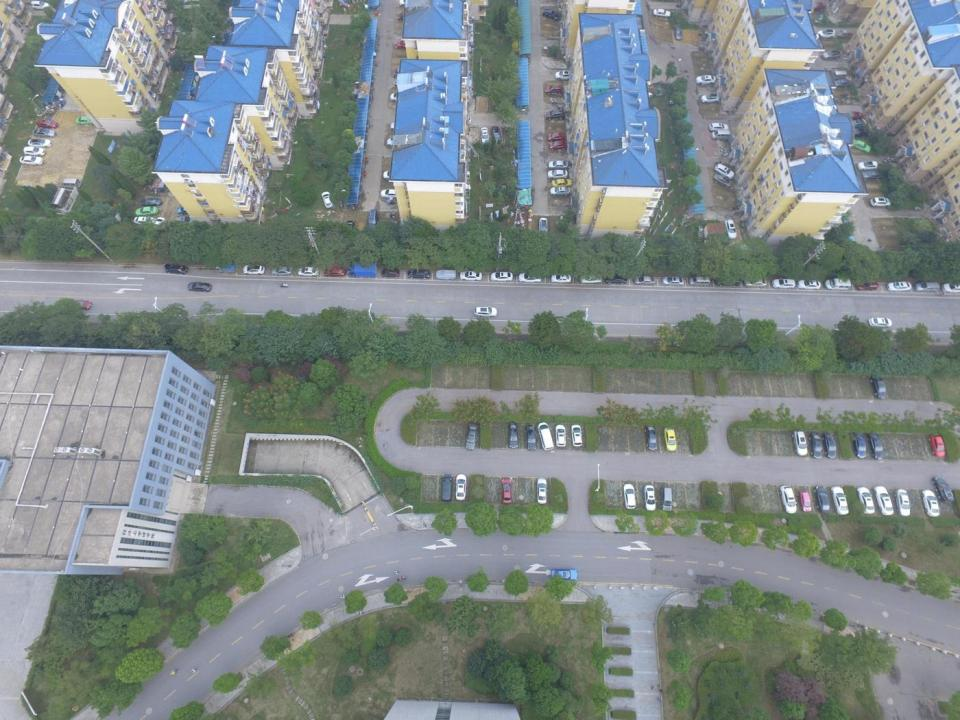car: (932, 476, 956, 503), (874, 485, 894, 516), (830, 485, 850, 515), (856, 486, 875, 514), (921, 489, 940, 517), (780, 485, 798, 514), (894, 489, 912, 516), (867, 432, 884, 460), (814, 485, 830, 514), (792, 429, 808, 456), (870, 374, 887, 399), (808, 432, 823, 459), (928, 435, 946, 457), (852, 432, 867, 458), (643, 484, 657, 511), (441, 472, 453, 502), (714, 162, 734, 180), (551, 568, 578, 581), (823, 432, 836, 459), (465, 424, 478, 450), (914, 280, 940, 293), (525, 424, 538, 450), (623, 483, 636, 509), (645, 423, 657, 451), (663, 427, 677, 451), (713, 173, 734, 188), (723, 219, 738, 240), (797, 491, 812, 512), (455, 474, 467, 500), (69, 298, 93, 311), (604, 272, 628, 285), (770, 277, 796, 289), (536, 478, 548, 504), (501, 477, 512, 505), (570, 424, 583, 447), (797, 278, 821, 290), (475, 305, 497, 318), (715, 276, 741, 287), (508, 422, 519, 448), (852, 138, 871, 153), (36, 118, 59, 130), (886, 281, 911, 292), (320, 190, 334, 209), (187, 280, 211, 291), (868, 317, 892, 328), (661, 487, 672, 511), (27, 138, 53, 148), (164, 263, 187, 274), (242, 264, 265, 275), (459, 270, 482, 281), (490, 271, 513, 282), (518, 272, 541, 283), (579, 273, 602, 284), (19, 155, 44, 165), (297, 266, 319, 277), (857, 280, 879, 291), (857, 160, 879, 171), (555, 425, 566, 447), (32, 128, 56, 138), (407, 269, 431, 279), (544, 84, 564, 96), (870, 197, 894, 207), (435, 269, 456, 280), (550, 273, 571, 284), (23, 146, 46, 156), (694, 74, 717, 84), (661, 276, 684, 286), (744, 277, 767, 287), (75, 115, 95, 126), (324, 267, 346, 277), (382, 170, 404, 180), (380, 188, 400, 199), (708, 122, 730, 132), (135, 206, 159, 215), (542, 8, 560, 20), (861, 170, 885, 179), (271, 266, 292, 276), (554, 70, 575, 80), (545, 109, 564, 120), (701, 92, 720, 103), (941, 282, 960, 293), (822, 50, 841, 61), (30, 0, 50, 10), (382, 267, 400, 278), (549, 187, 571, 196), (633, 276, 655, 285), (153, 216, 166, 230), (390, 92, 410, 101), (492, 126, 502, 144), (549, 141, 567, 151), (652, 8, 670, 18), (140, 198, 162, 206), (134, 216, 156, 224), (551, 179, 573, 187), (386, 138, 405, 147), (548, 160, 569, 168), (547, 170, 568, 178), (811, 1, 826, 12), (539, 216, 548, 234), (850, 127, 868, 136), (845, 111, 863, 120), (818, 29, 836, 38), (673, 24, 683, 40), (833, 79, 850, 88), (398, 11, 413, 21), (175, 217, 193, 225), (481, 127, 489, 145), (548, 132, 566, 140), (177, 206, 194, 214), (849, 120, 866, 128), (397, 40, 413, 48), (346, 220, 354, 235), (390, 123, 407, 130)
truck: (348, 262, 378, 278), (214, 262, 236, 274)
van: (537, 422, 554, 451), (824, 278, 852, 290), (688, 275, 710, 286), (710, 130, 731, 140), (367, 209, 378, 228), (60, 178, 82, 187), (832, 70, 848, 78), (393, 68, 408, 76)
